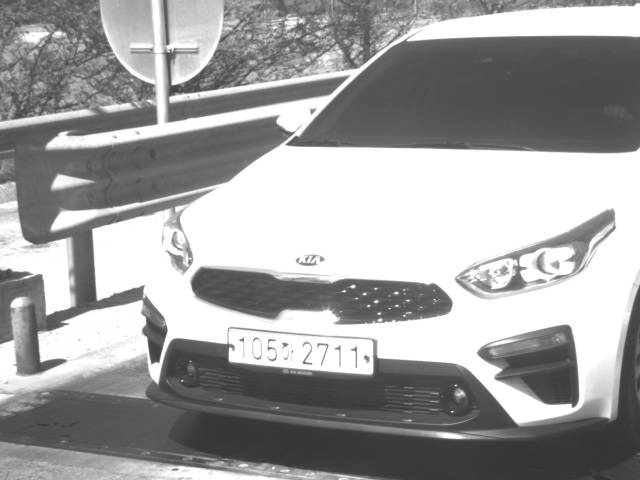car: (139, 4, 639, 453)
plate: (225, 325, 379, 378)
